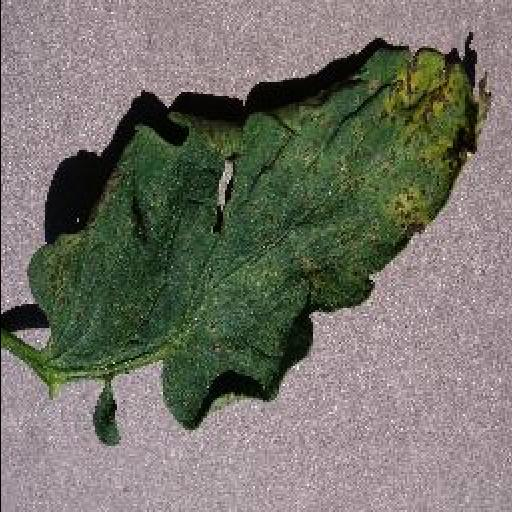disease_tomato: (28, 44, 492, 446)
